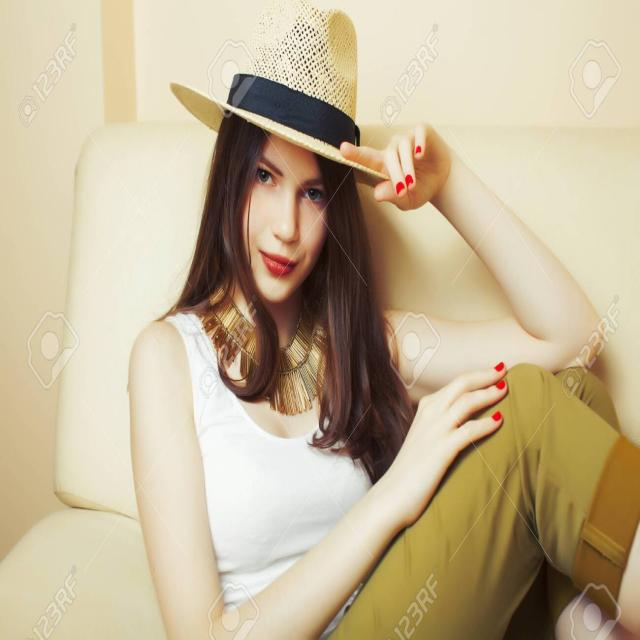hat: (169, 8, 395, 308)
